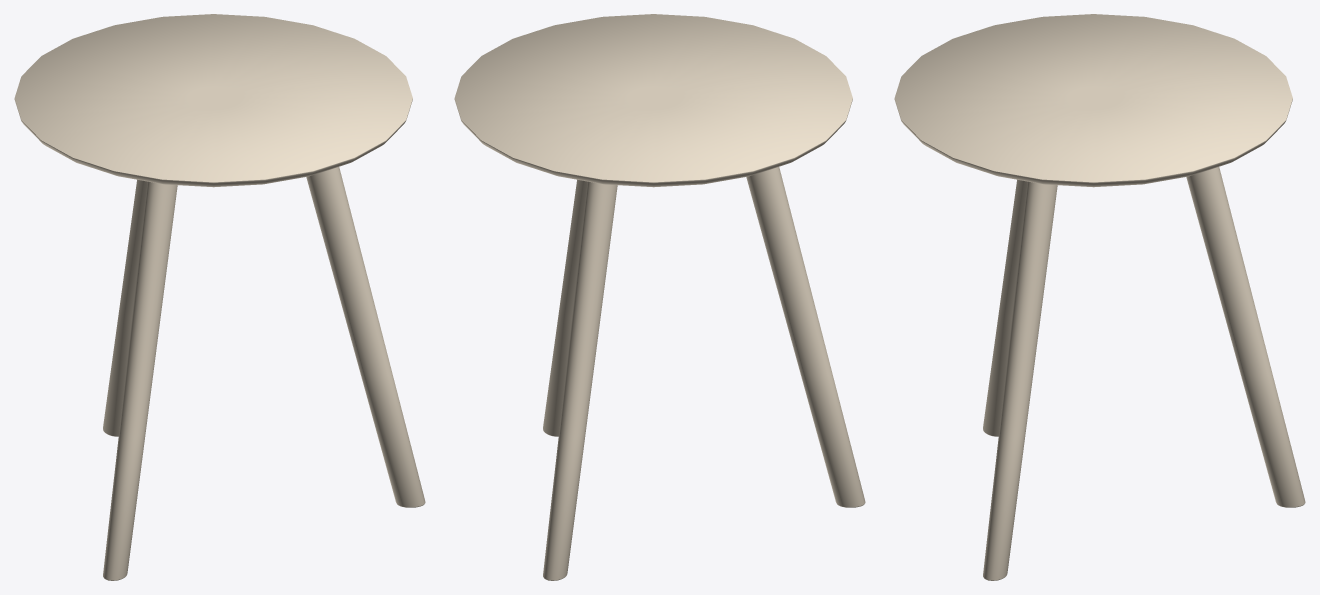
File: HMI_Osso_Table_26Dia_3D.fbx
3 views of the same model, side by side, from view 1: azimuth 30°, elevation 25°; view 2: azimuth 150°, elevation 25°; view 3: azimuth 270°, elevation 25° (orthographic).
Parts seen in each view (by area): view 1: polySurface1; view 2: polySurface1; view 3: polySurface1.
Boxes of the visible parts, x1,y1,x2,y2 form: polySurface1: (14,14,425,580); polySurface1: (454,14,865,580); polySurface1: (894,14,1305,580).
Bounding box in the file's own units: 25.53 × 28.66 × 26.33.
